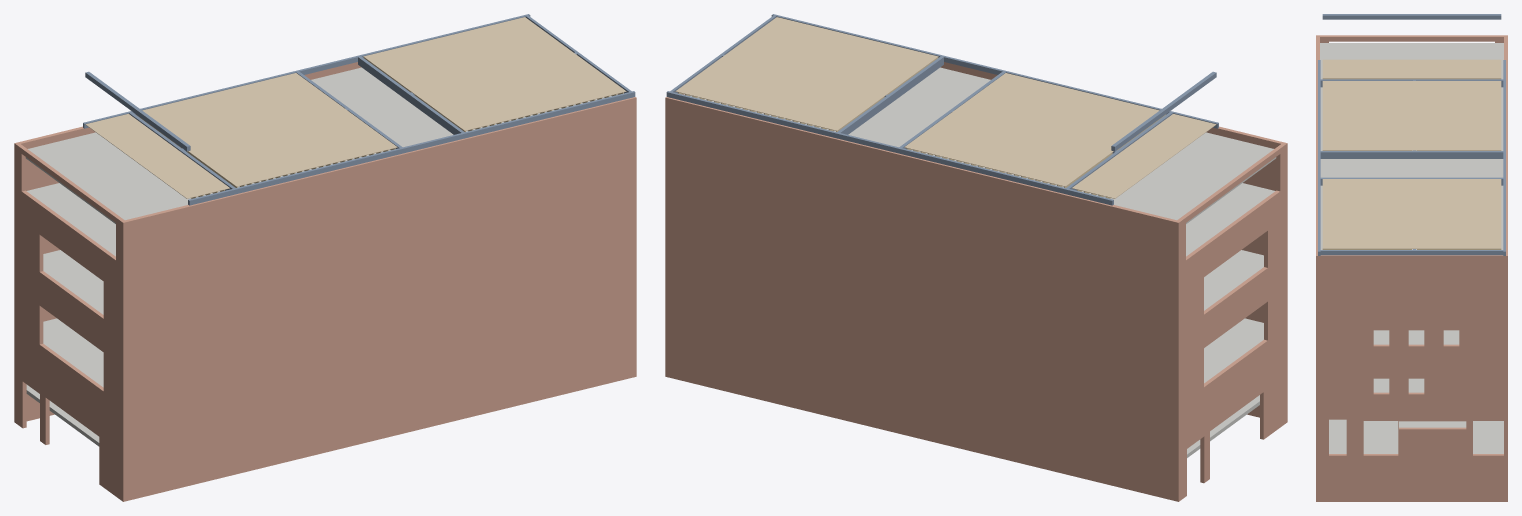
File: stage-1.glb
3 views of the same model, side by side, from view 1: azimuth 30°, elevation 25°; view 2: azimuth 150°, elevation 25°; view 3: azimuth 270°, elevation 25° (orthographic). The views are drawn at different scales.
Parts seen in each view (by area): view 1: Geom3D_EX front wall, Geom3D_4F deck 1, Geom3D_EX GF floor, Geom3D_RB side (lower) UB254 - ENGINEER, Geom3D_4F posi joist PS10 (hung) - ENGINEER; view 2: Geom3D_EX front wall, Geom3D_4F deck 1, Geom3D_EX GF floor, Geom3D_RB side (lower) UB254 - ENGINEER, Geom3D_4F posi joist PS10 (hung) - ENGINEER; view 3: Geom3D_EX front wall, Geom3D_4F deck 1, Geom3D_EX GF floor, Geom3D_RB side (lower) UB254 - ENGINEER, Geom3D_4F posi joist PS10 (hung) - ENGINEER.
Boxes of the visible parts, x1=… form: Geom3D_EX front wall: x1=14, y1=62, x2=636, y2=501; Geom3D_4F deck 1: x1=85, y1=17, x2=626, y2=198; Geom3D_EX GF floor: x1=25, y1=67, x2=617, y2=446; Geom3D_RB side (lower) UB254 - ENGINEER: x1=83, y1=14, x2=635, y2=205; Geom3D_4F posi joist PS10 (hung) - ENGINEER: x1=136, y1=57, x2=623, y2=198; Geom3D_EX front wall: x1=665, y1=62, x2=1287, y2=501; Geom3D_4F deck 1: x1=675, y1=17, x2=1216, y2=198; Geom3D_EX GF floor: x1=684, y1=67, x2=1276, y2=457; Geom3D_RB side (lower) UB254 - ENGINEER: x1=666, y1=14, x2=1218, y2=205; Geom3D_4F posi joist PS10 (hung) - ENGINEER: x1=678, y1=57, x2=1165, y2=198; Geom3D_EX front wall: x1=1316, y1=35, x2=1507, y2=501; Geom3D_4F deck 1: x1=1322, y1=59, x2=1501, y2=248; Geom3D_EX GF floor: x1=1320, y1=43, x2=1503, y2=453; Geom3D_RB side (lower) UB254 - ENGINEER: x1=1318, y1=14, x2=1505, y2=255; Geom3D_4F posi joist PS10 (hung) - ENGINEER: x1=1322, y1=78, x2=1501, y2=249.
Size of the model in its own units: 28.61 by 17.9 by 10.51.
